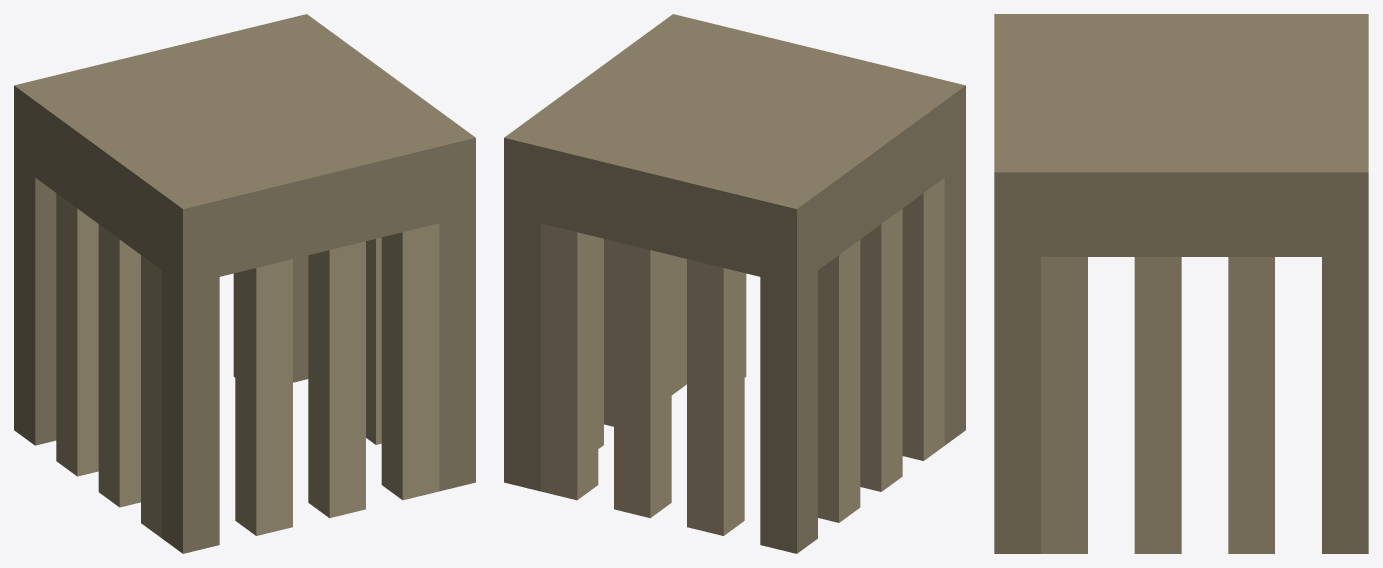
Rendered from jaula_vacia_01.glb.
3 renders of one model, left to right at view 1: azimuth 30°, elevation 25°; view 2: azimuth 150°, elevation 25°; view 3: azimuth 270°, elevation 25°, orthographic. The views are drawn at different scales.
Parts seen in each view (by area): view 1: jaula_vacia_01; view 2: jaula_vacia_01; view 3: jaula_vacia_01.
Boxes of the visible parts, <box> form: jaula_vacia_01: <box>14,14,475,553</box>; jaula_vacia_01: <box>504,14,965,553</box>; jaula_vacia_01: <box>994,14,1368,553</box>.
Size of the model in its own units: 0.8 by 0.9 by 0.8.
